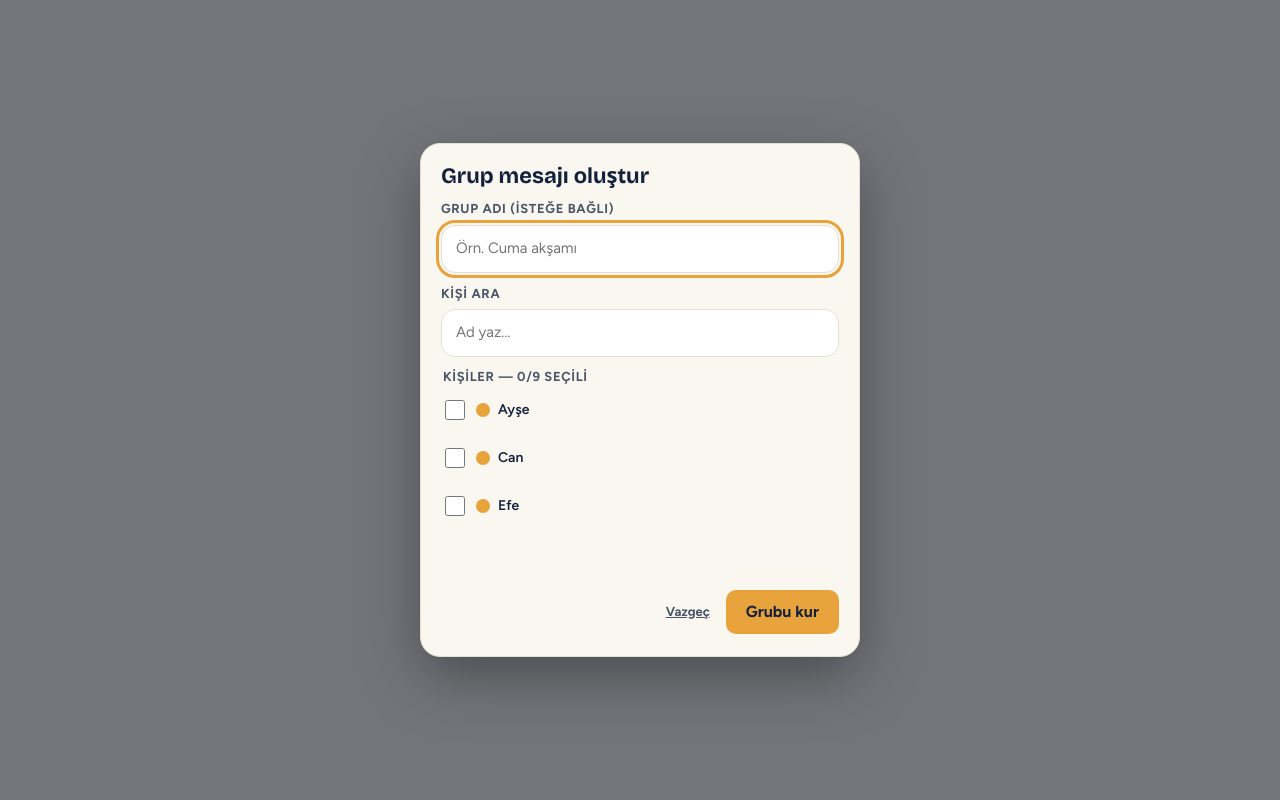
Test: YeniGrupDialog › sunucu hatasını gösterir
Click the checkbox labelled "Ayşe": (455, 410) [445,400,465,420]
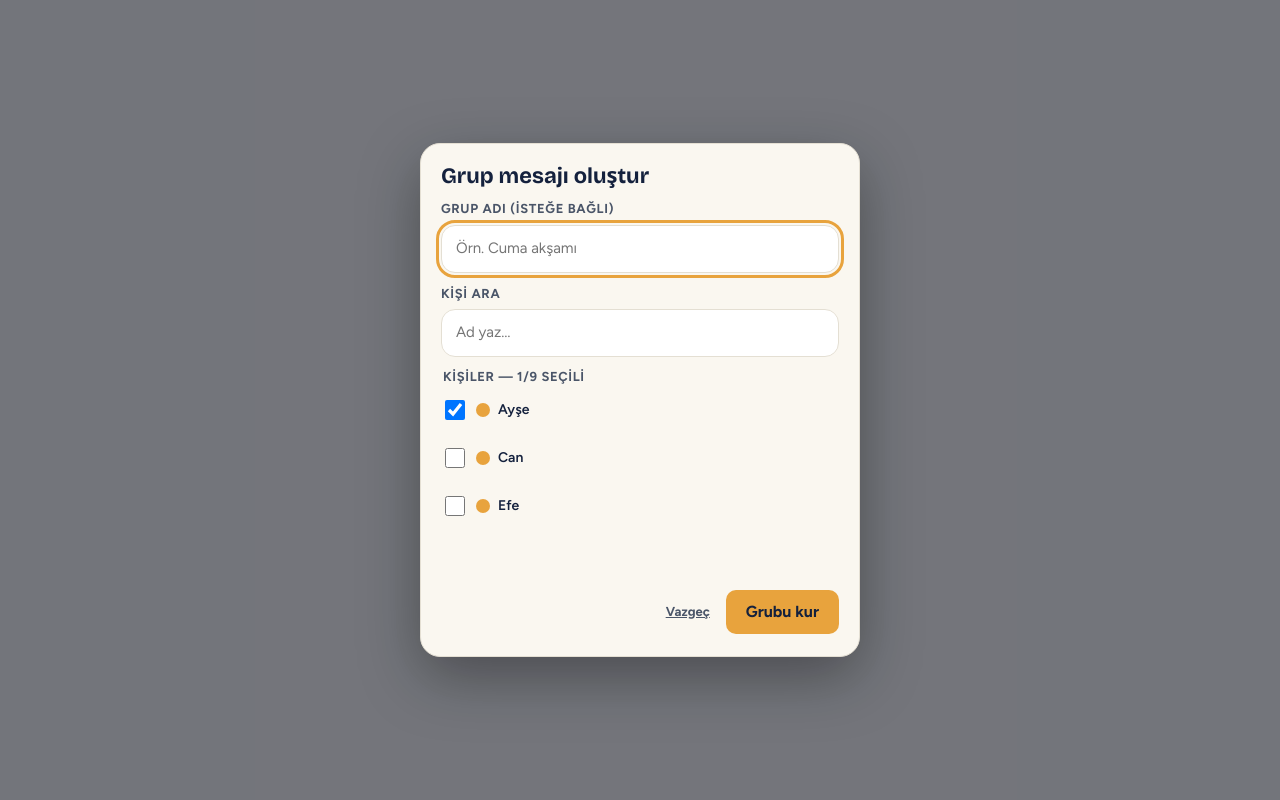
Click the checkbox labelled "Can": (455, 458) [445,448,465,468]
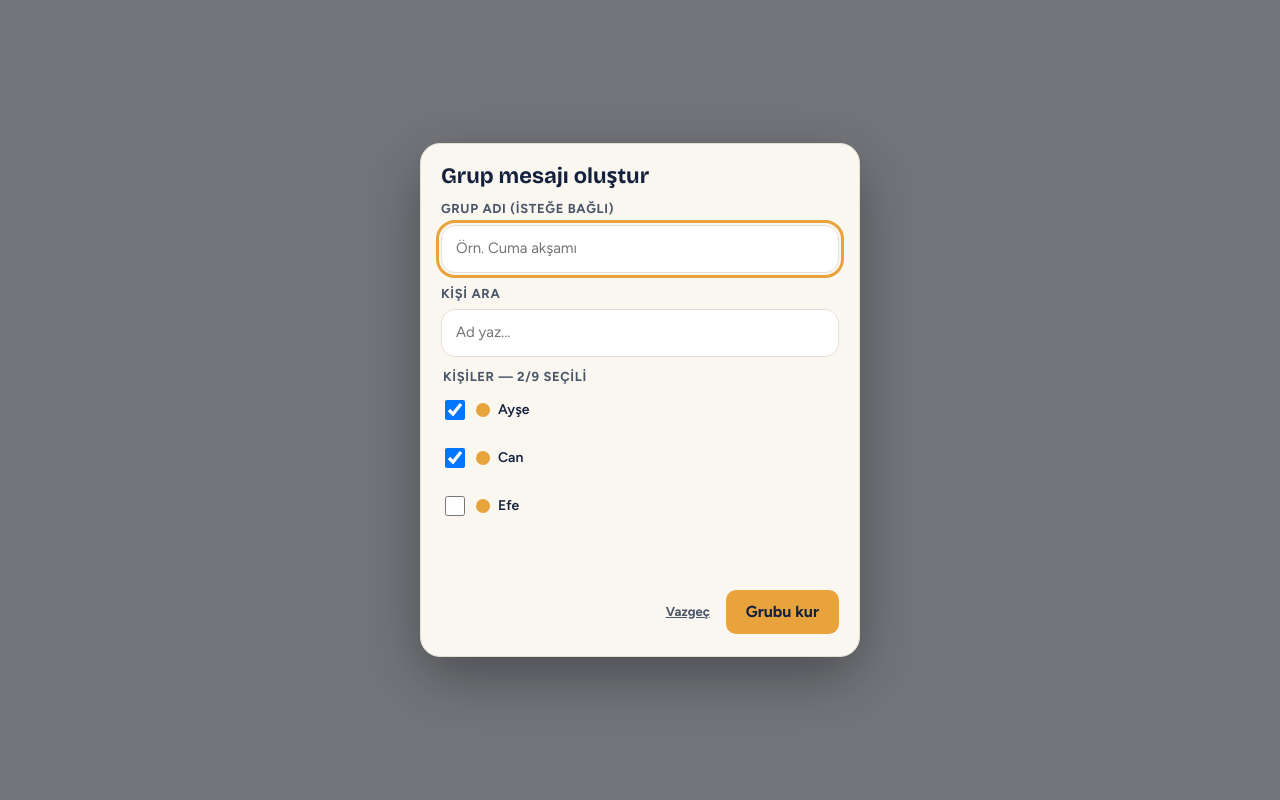
Click the button "Grubu kur": (782, 612) [726,590,839,634]
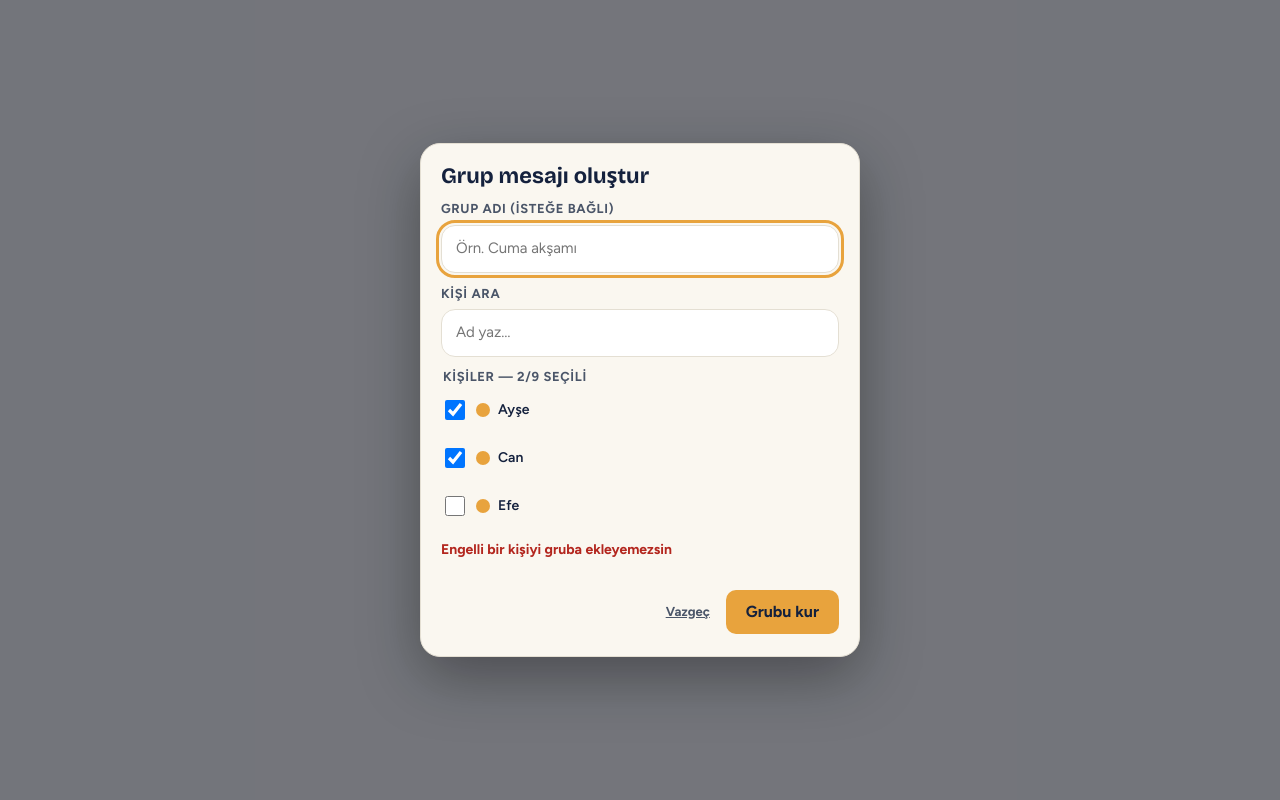
Check: the message shows "Engelli", box [441,541,672,558]
